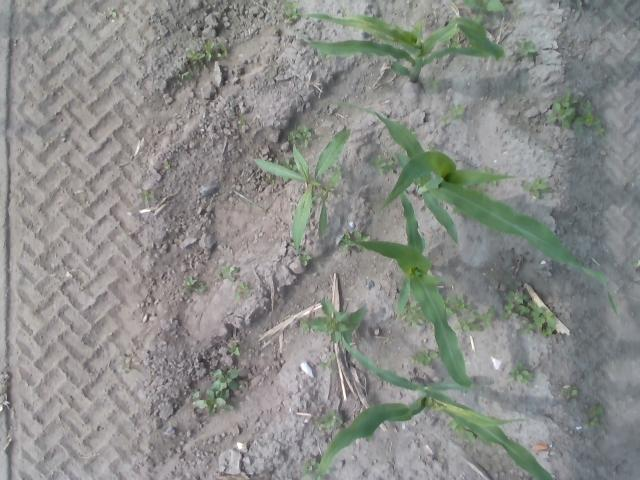Maize: (334, 102, 622, 322), (310, 336, 556, 480), (344, 192, 472, 384), (300, 6, 504, 92)
Weeds: (254, 126, 352, 250), (496, 277, 560, 340), (302, 296, 368, 345), (546, 93, 604, 142), (192, 366, 244, 420), (522, 173, 556, 203), (186, 42, 222, 68), (367, 153, 399, 179), (337, 227, 369, 251), (516, 36, 540, 64), (172, 70, 194, 98), (508, 364, 533, 388), (235, 273, 256, 299), (400, 302, 422, 325), (447, 296, 475, 314), (455, 317, 481, 336), (588, 403, 606, 428), (424, 75, 444, 97), (480, 305, 500, 327), (286, 5, 305, 28), (118, 358, 142, 376), (290, 126, 314, 144), (418, 344, 434, 370), (188, 276, 208, 296), (561, 380, 580, 400), (322, 411, 341, 430), (220, 266, 240, 282), (450, 103, 466, 122), (322, 352, 336, 371), (295, 252, 311, 268), (141, 188, 155, 205), (231, 344, 244, 358), (164, 160, 174, 174)
